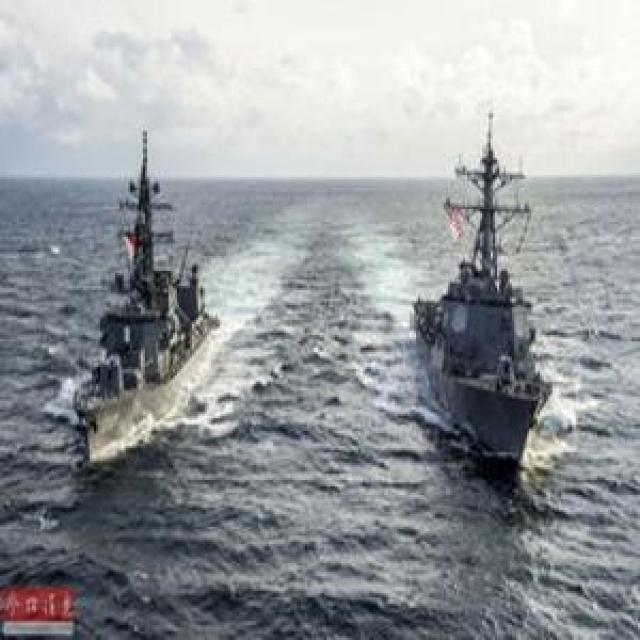navalvessels: (68, 125, 231, 472), (396, 116, 551, 471)
